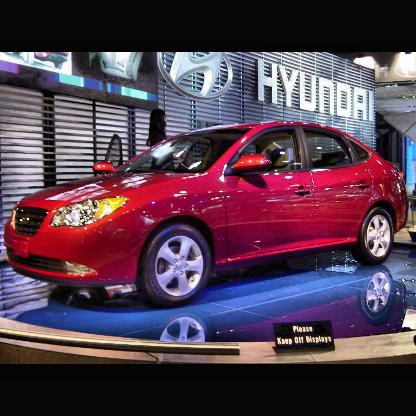Hyundai Elantra Sedan 2007: (6, 121, 409, 312)
